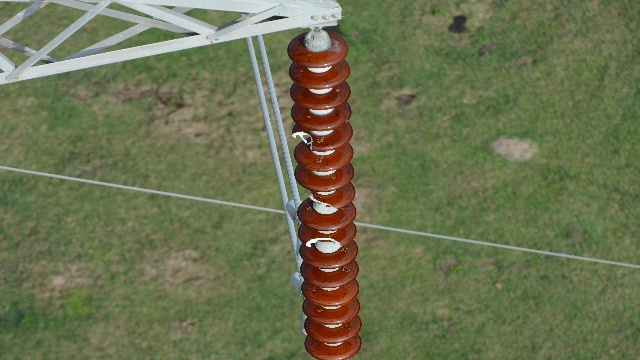broken_local: (305, 186, 339, 210), (305, 234, 343, 250), (290, 128, 316, 151)
insulator_unspecified: (289, 31, 363, 359)
